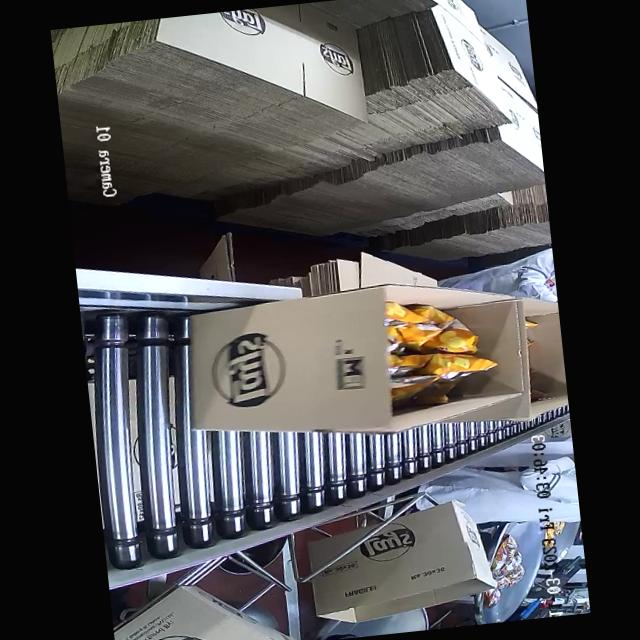cheese: (356, 285, 492, 396)
